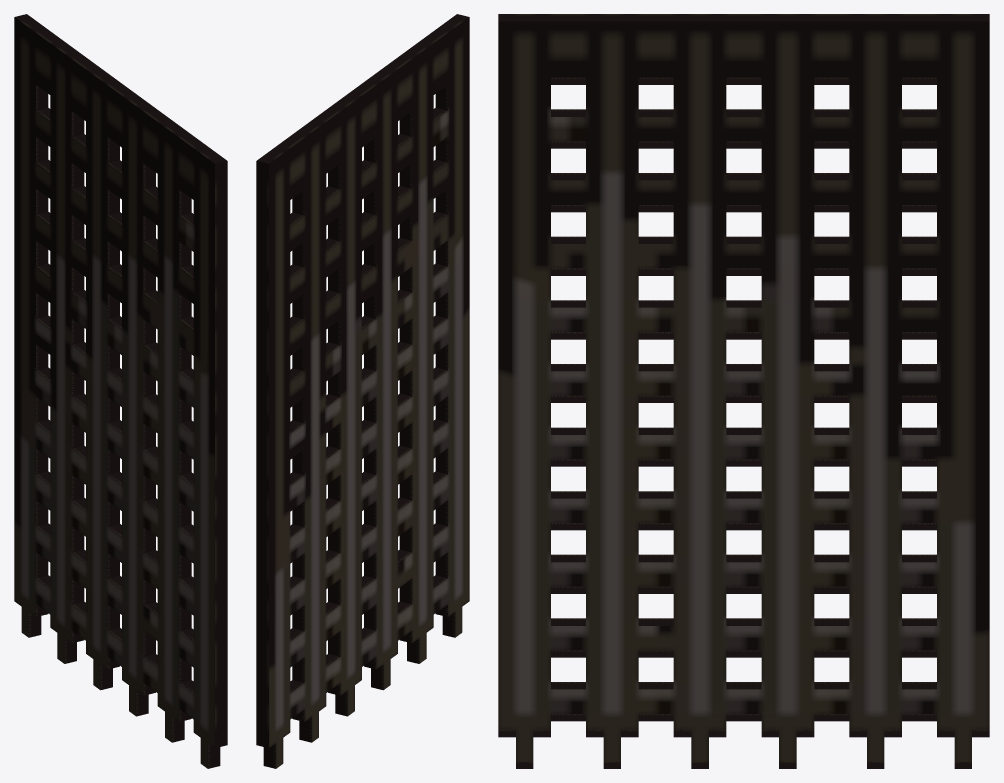
Rendered from ObjMD_Coliseum_Door.FBX.
3 renders of one model, left to right at view 1: azimuth 30°, elevation 25°; view 2: azimuth 150°, elevation 25°; view 3: azimuth 270°, elevation 25°, orthographic. The views are drawn at different scales.
Visible parts, largest first — view 1: ObjMD_Coliseum_Door; view 2: ObjMD_Coliseum_Door; view 3: ObjMD_Coliseum_Door.
Part boxes in pixels (<box>): ObjMD_Coliseum_Door: <box>14,14,227,768</box>; ObjMD_Coliseum_Door: <box>256,14,469,768</box>; ObjMD_Coliseum_Door: <box>498,14,989,768</box>.
Bounding box in the file's own units: 6.25 × 294 × 175.
